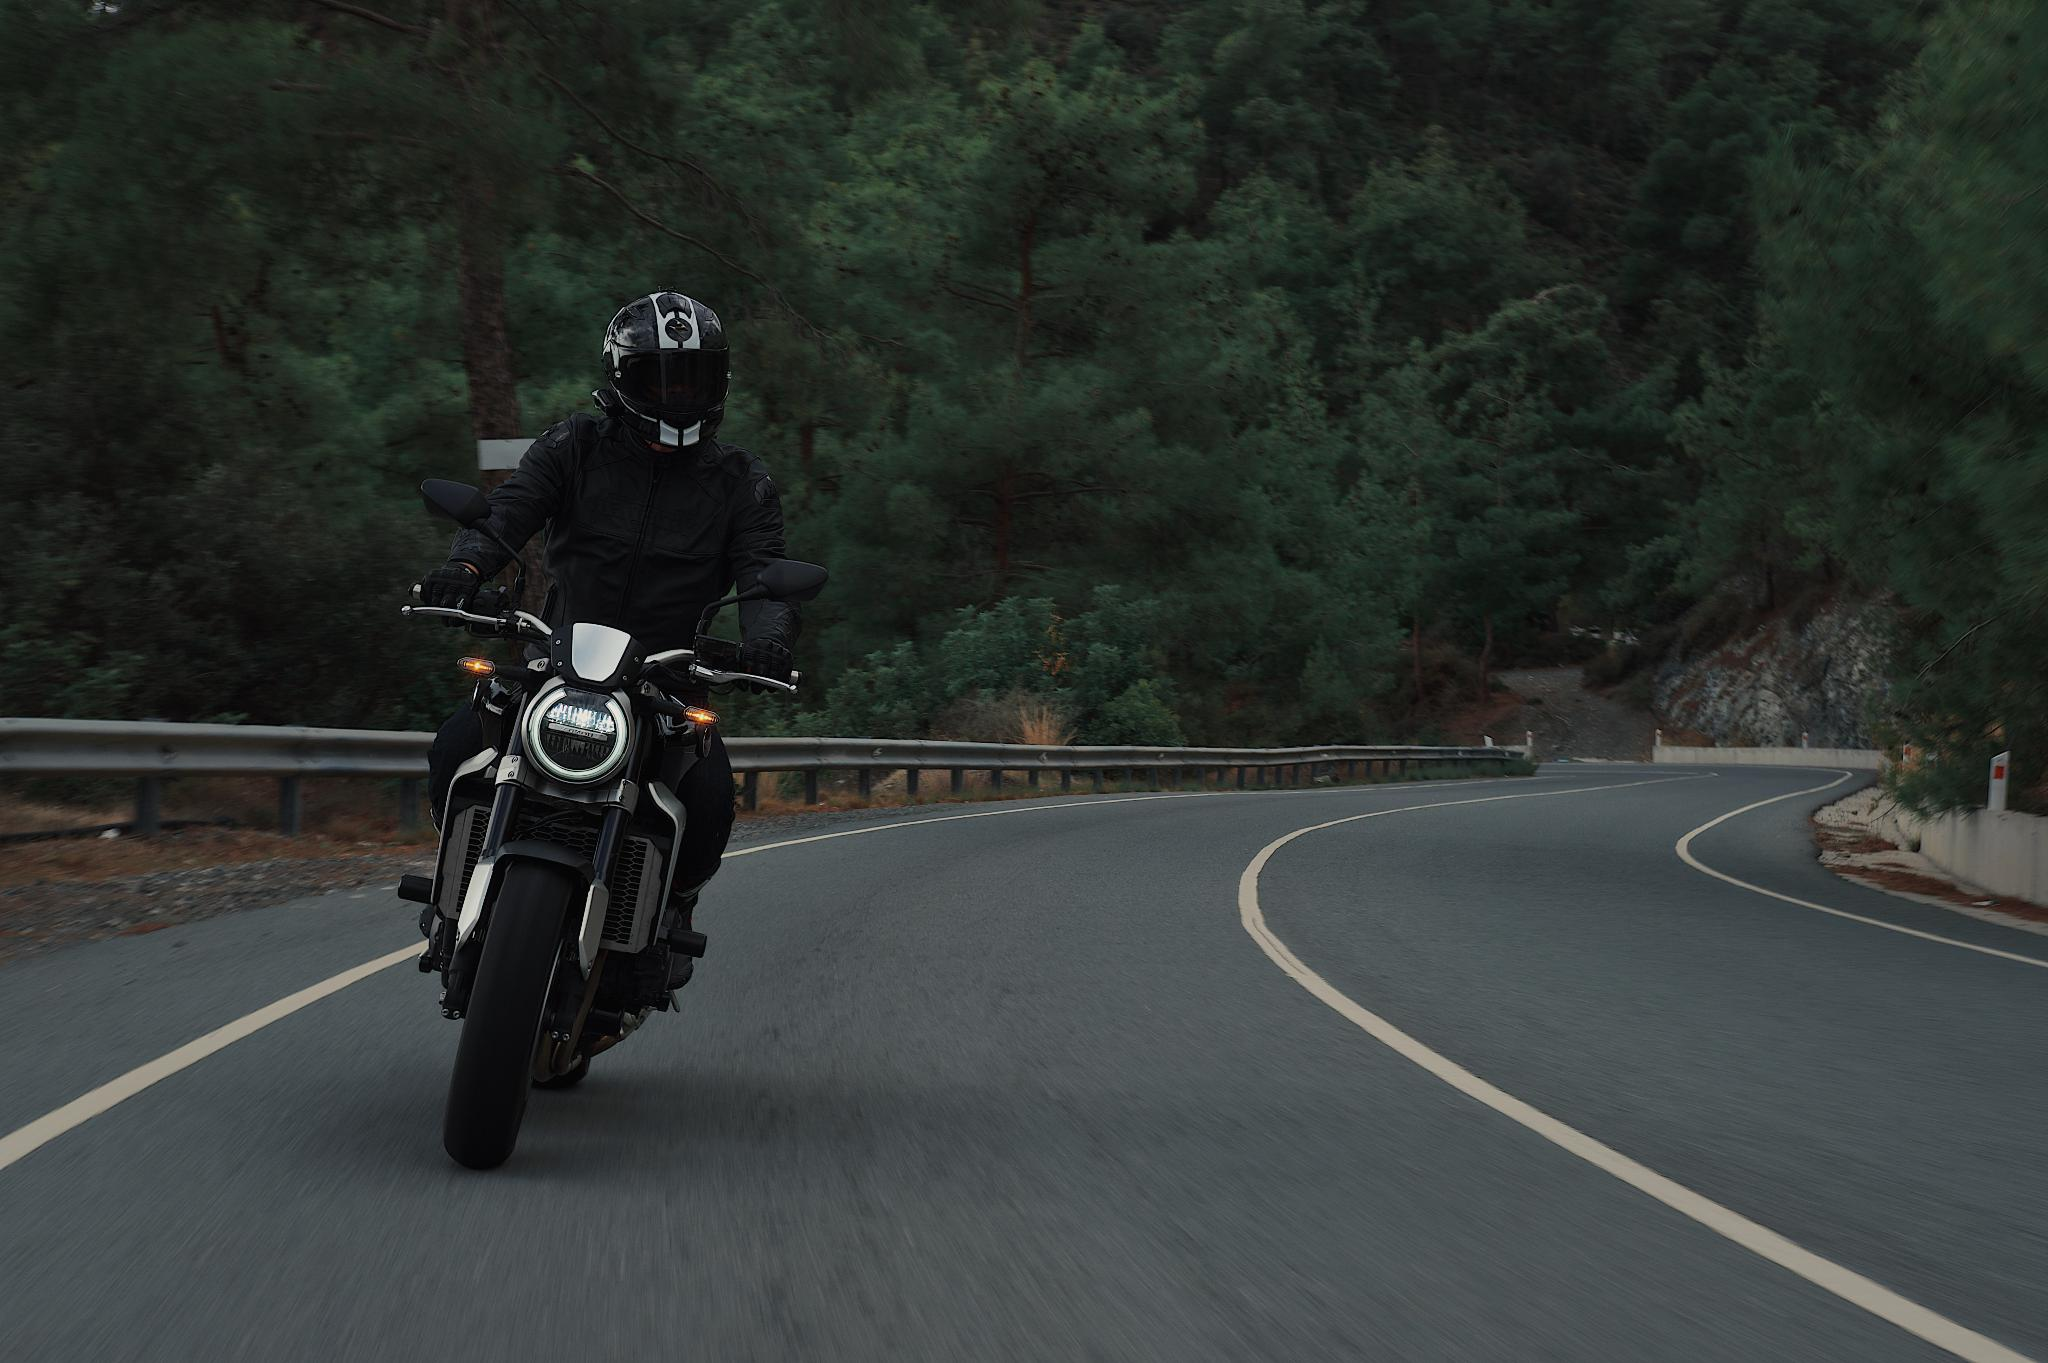motorcycle: (356, 560, 820, 1177)
